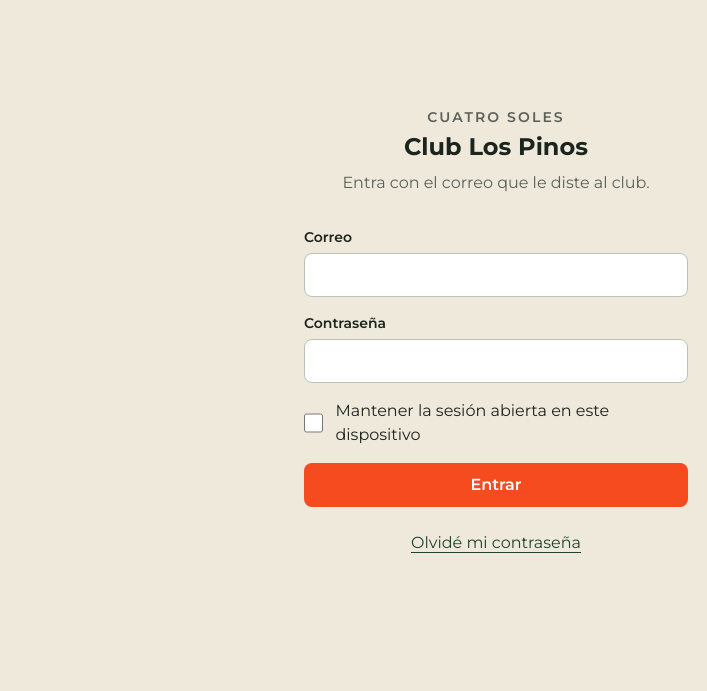
Scenario: Pantalla de ingreso · entrar › manda el correo y la contraseña, y lleva al panel
The image size is (707, 691).
Type "maria@lospinos.test" into the field labelled "Correo" at {"x": 496, "y": 275}, box [304,253,688,297]
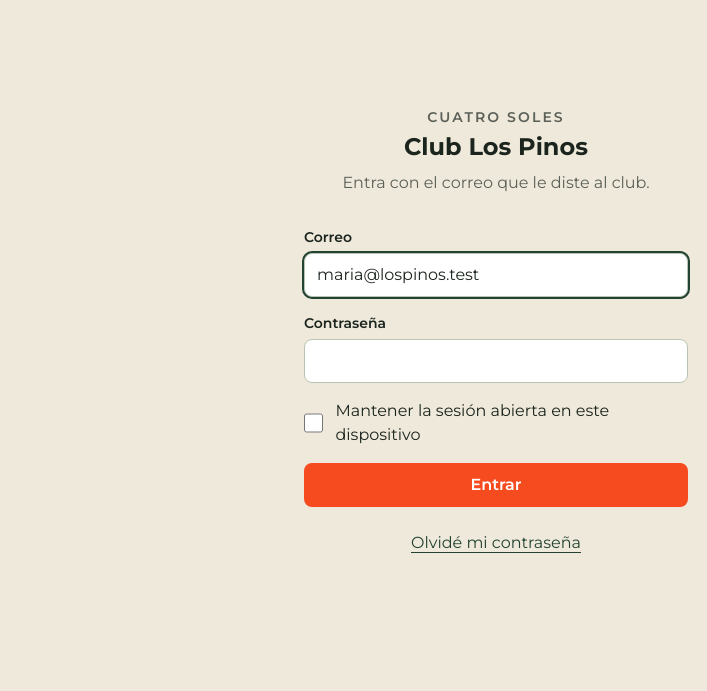
Type "mi-clave-larga-9" into the password field labelled "Contraseña" at {"x": 496, "y": 361}, box [304,339,688,383]
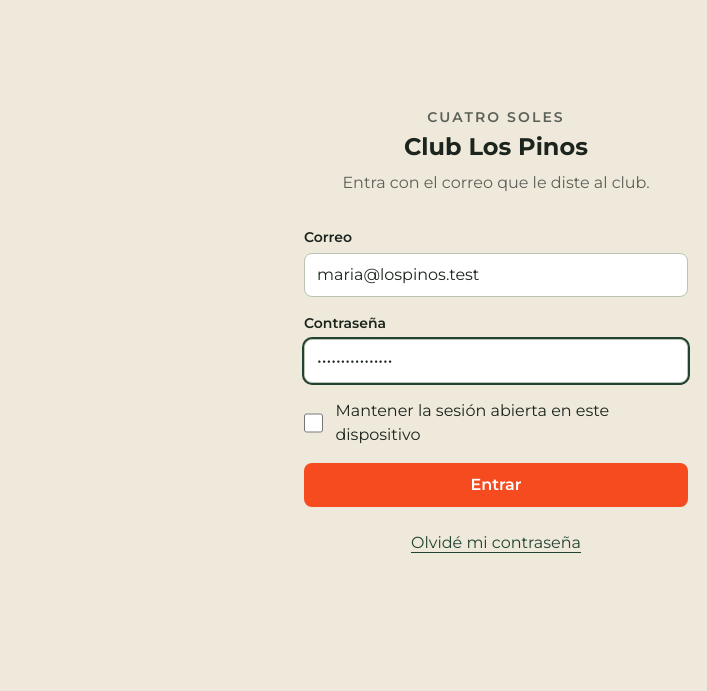
Click the button "Entrar" at {"x": 496, "y": 485}, box [304,463,688,507]
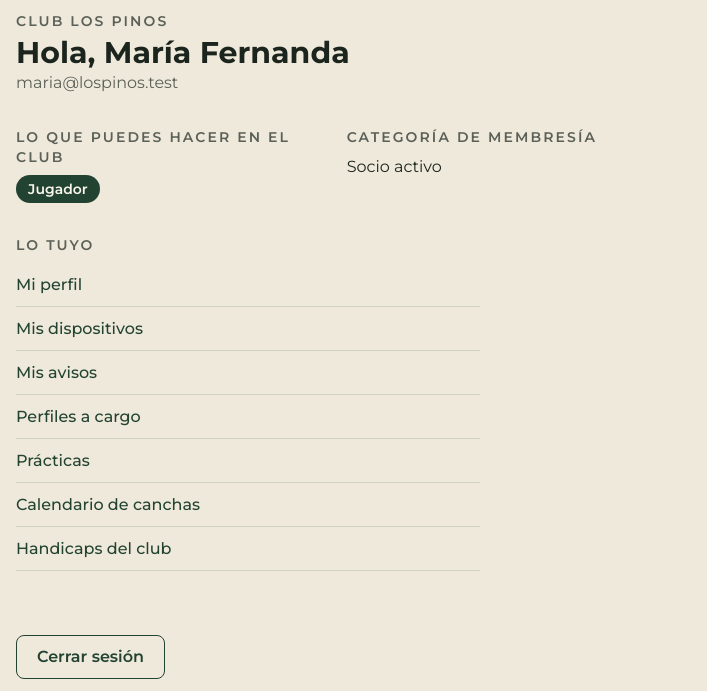
Result: the heading "Hola, María Fernanda" is shown at [16,34,350,71]
